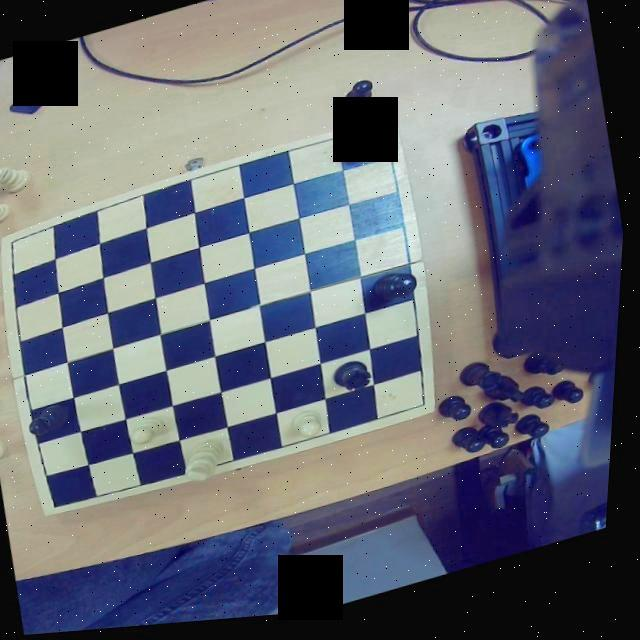chess-table-corners: (368, 124, 398, 152), (414, 396, 442, 424), (46, 496, 78, 518), (1, 234, 27, 258)
